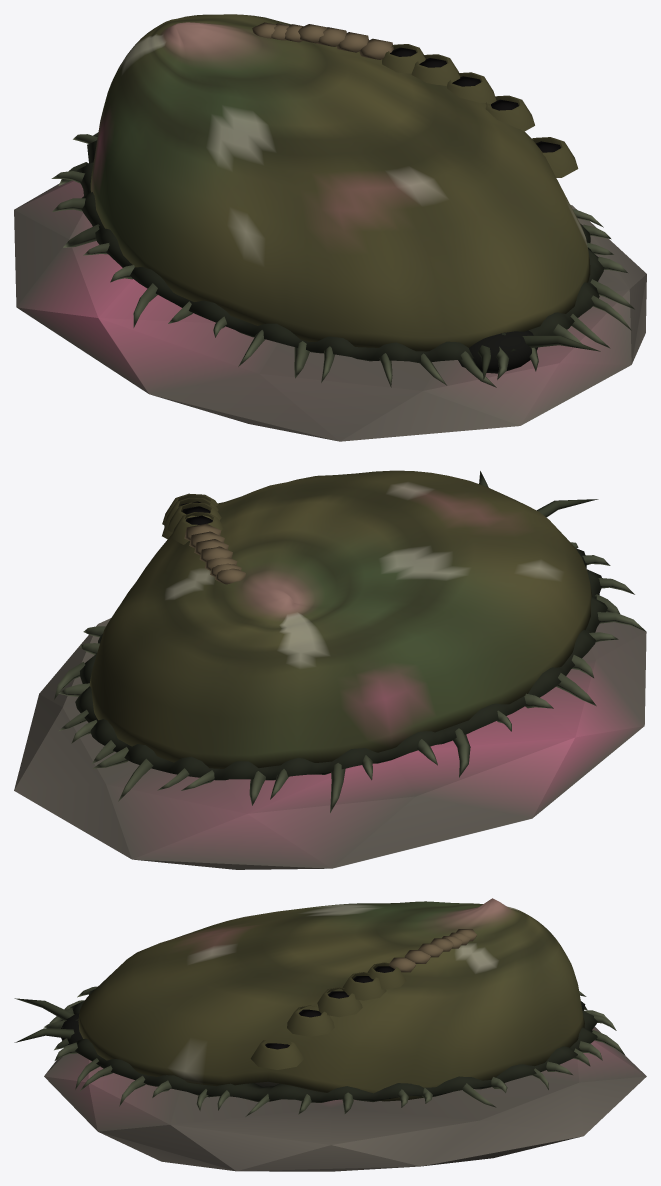
Rendered from JapaneseAbalone.fbx.
3 renders of one model, top to bottom at view 1: azimuth 30°, elevation 25°; view 2: azimuth 150°, elevation 25°; view 3: azimuth 270°, elevation 25°, orthographic. The views are drawn at different scales.
Parts seen in each view (by area): view 1: JapaneseAbalone; view 2: JapaneseAbalone; view 3: JapaneseAbalone.
Part boxes in pixels (x1=…): JapaneseAbalone: x1=14, y1=14, x2=646, y2=441; JapaneseAbalone: x1=14, y1=470, x2=646, y2=869; JapaneseAbalone: x1=14, y1=898, x2=646, y2=1171.
Bounding box in the file's own units: 0.9027 × 0.3639 × 1.26.
